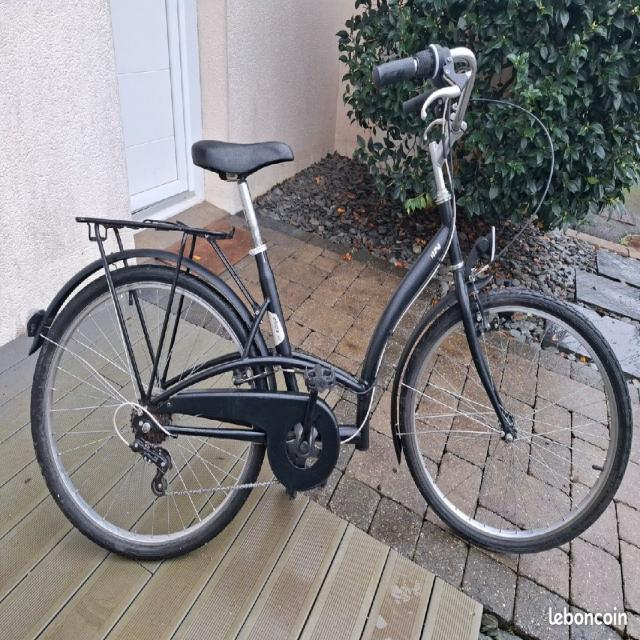Bike: (28, 45, 632, 558)
